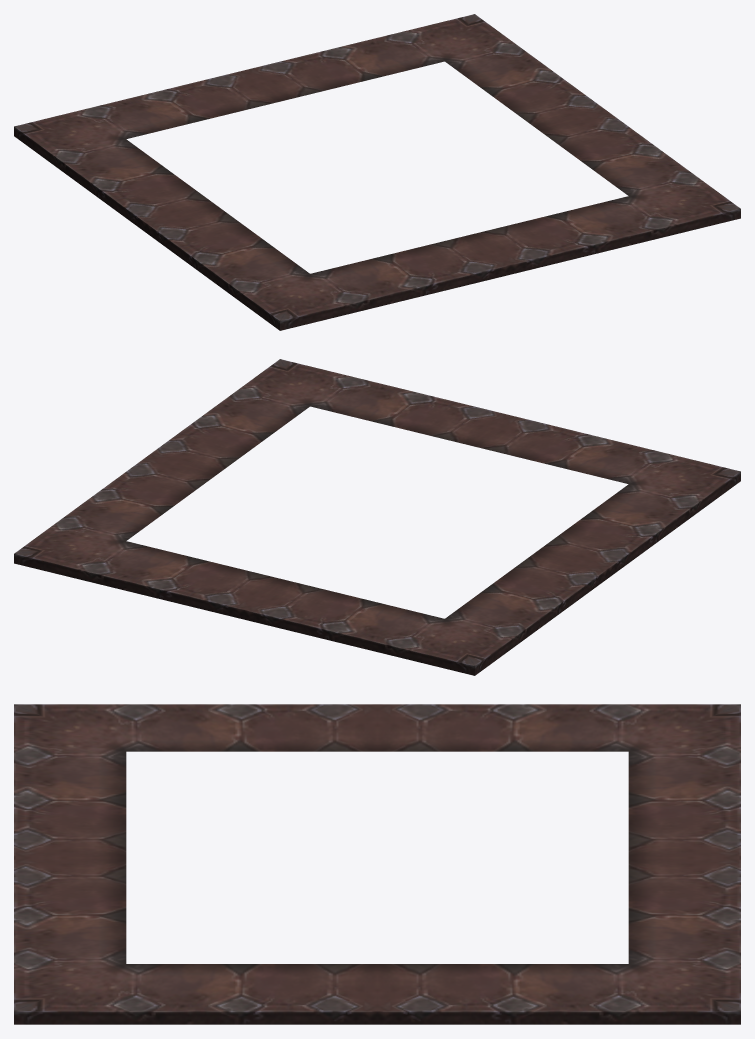
Rendered from Vault_Level03_L.FBX.
3 views of the same model, one above another, from view 1: azimuth 30°, elevation 25°; view 2: azimuth 150°, elevation 25°; view 3: azimuth 270°, elevation 25° (orthographic). The views are drawn at different scales.
Parts seen in each view (by area): view 1: Vault_Level03_L; view 2: Vault_Level03_L; view 3: Vault_Level03_L.
Boxes of the visible parts, x1,y1,x2,y2 form: Vault_Level03_L: (14,14,740,330); Vault_Level03_L: (14,359,740,675); Vault_Level03_L: (14,704,740,1024).
Size of the model in its own units: 500 by 10 by 500.
